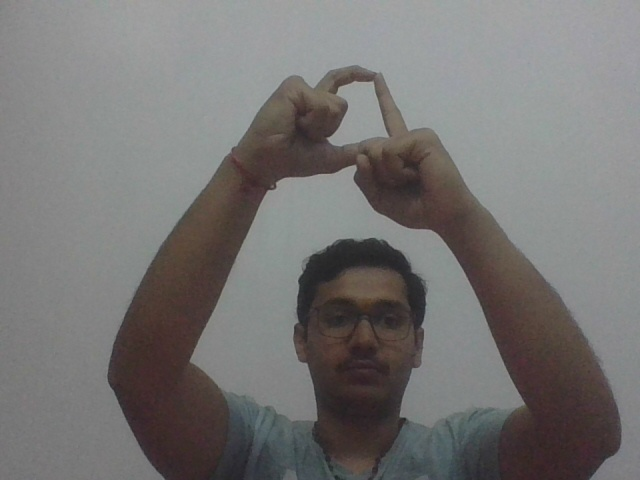D: (244, 63, 461, 229)
